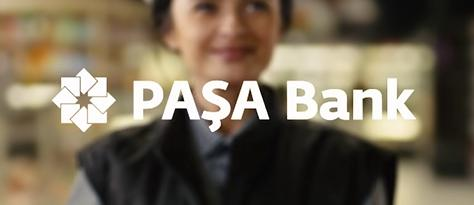Pasha Bank: (49, 67, 119, 133)
